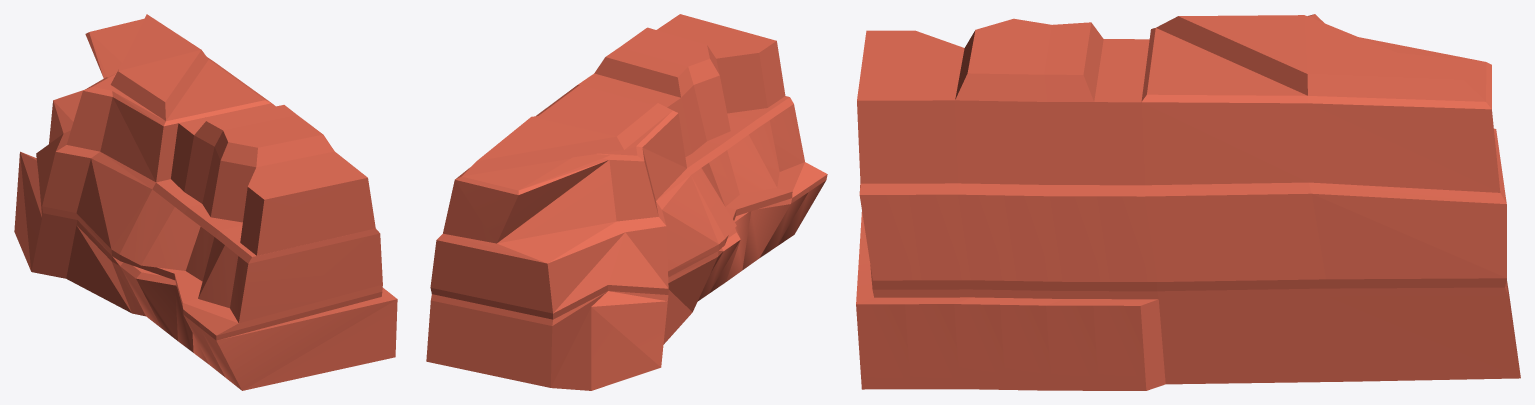
The model's file is Roca3.fbx.
The picture shows the model from 3 angles, left to right: view 1: azimuth 30°, elevation 25°; view 2: azimuth 150°, elevation 25°; view 3: azimuth 270°, elevation 25°; orthographic projection. The views are drawn at different scales.
Parts seen in each view (by area): view 1: Cube.005; view 2: Cube.005; view 3: Cube.005.
Boxes of the visible parts, x1,y1,x2,y2 form: Cube.005: (14, 14, 397, 390); Cube.005: (426, 14, 827, 390); Cube.005: (856, 14, 1520, 390).
Bounding box in the file's own units: 2124 × 2162 × 4468.
